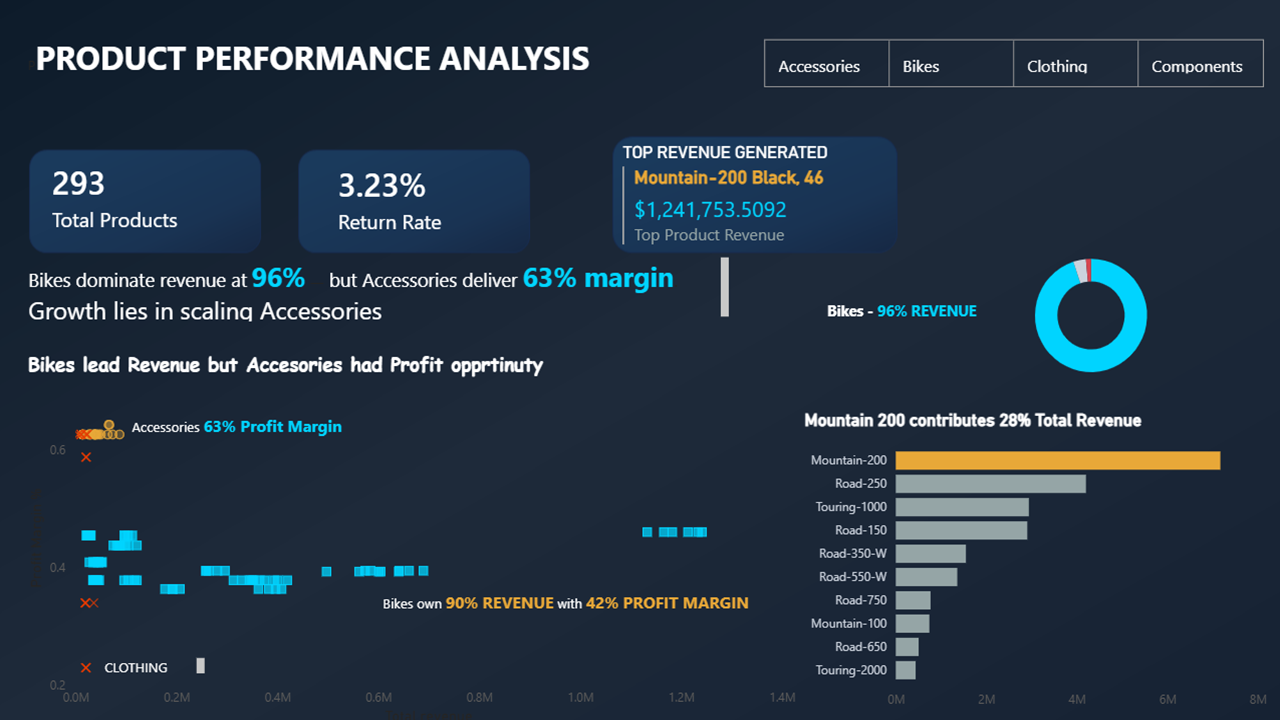

The dashboard page shown, as its layout file describes it:
{"tool":"powerbi","page":{"name":"PRODUCT ANSLYSIS","canvas":[1280,720],"ordinal":1},"visuals":[{"type":"textbox","box":[23.2,31.8,616.3,61.1],"z":0},{"type":"advancedSlicerVisual","fields":{"Values":["Products.Category_Name"]},"box":[756.9,35.5,507.5,57.5],"z":1000},{"type":"cardVisual","fields":{"Data":["MEASURES (2).Total Products"]},"box":[23.2,141.8,284.9,106.4],"z":2000},{"type":"cardVisual","fields":{"Data":["MEASURES (2).Returnrate%"]},"box":[308.6,142.1,285,106.4],"z":3000},{"type":"multiRowCard","title":"TOP REVENUE GENERATED","fields":{"Values":["MEASURES (2).Top Product Name","MEASURES (2).Top Product Revenue"]},"box":[616.3,140.6,287.4,107.6],"z":4000},{"type":"scatterChart","title":"Bikes lead Revenue but Accesories had Profit opprtinuty","fields":{"X":["MEASURES (2).Total revenue"],"Y":["MEASURES (2).Profit Margin %"],"Category":["Products.ProductName"],"Series":["Products.Category_Name"]},"box":[23.3,345.8,775.3,374.6],"z":5000},{"type":"textbox","box":[127.6,404.8,231.9,32.9],"z":6000},{"type":"textbox","box":[377.4,579.1,380.1,34.3],"z":7000},{"type":"textbox","box":[100.2,644.9,109.8,24.7],"z":8000},{"type":"clusteredBarChart","title":"Mountain 200 contributes 28% Total Revenue","fields":{"Category":["Products.ModelName"],"Y":["MEASURES (2).Total revenue"]},"box":[797.3,404.8,470.7,304.6],"z":9000},{"type":"donutChart","title":"Bikes - 96% REVENUE","fields":{"Category":["Products.Category_Name"],"Y":["MEASURES (2).Total revenue"]},"box":[907,237.4,360.9,149.6],"z":10000},{"type":"textbox","box":[820.6,292.3,190.7,35.7],"z":11000},{"type":"textbox","box":[23.3,249.7,708.1,72.7],"z":12000}]}

Visuals, with their boxes in screenshot pixels (x1, y1, x2, y2), scaled from the page's 1280x720 canvas onto the 1280x720 screenshot:
textbox: pyautogui.locateOnScreen(23, 32, 640, 93)
advancedSlicerVisual - Products.Category_Name: pyautogui.locateOnScreen(757, 36, 1264, 93)
cardVisual - MEASURES (2).Total Products: pyautogui.locateOnScreen(23, 142, 308, 248)
cardVisual - MEASURES (2).Returnrate%: pyautogui.locateOnScreen(309, 142, 594, 248)
"TOP REVENUE GENERATED" multiRowCard: pyautogui.locateOnScreen(616, 141, 904, 248)
"Bikes lead Revenue but Accesories had Profit opprtinuty" scatterChart: pyautogui.locateOnScreen(23, 346, 799, 719)
textbox: pyautogui.locateOnScreen(128, 405, 360, 438)
textbox: pyautogui.locateOnScreen(377, 579, 758, 613)
textbox: pyautogui.locateOnScreen(100, 645, 210, 670)
"Mountain 200 contributes 28% Total Revenue" clusteredBarChart: pyautogui.locateOnScreen(797, 405, 1268, 709)
"Bikes - 96% REVENUE" donutChart: pyautogui.locateOnScreen(907, 237, 1268, 387)
textbox: pyautogui.locateOnScreen(821, 292, 1011, 328)
textbox: pyautogui.locateOnScreen(23, 250, 731, 322)
